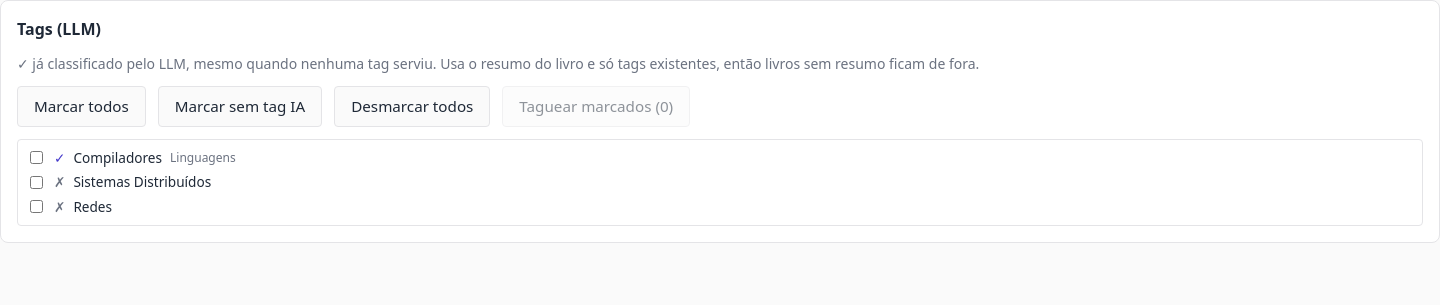
Scenario: AdminAutoTags › sends only marked books that have a summary
Expected: the checkbox labelled "✗ Sistemas Distribuídos" is shown, [30,176,43,189]
Click the button "Marcar sem tag IA" at (240, 106), box [158,86,322,127]
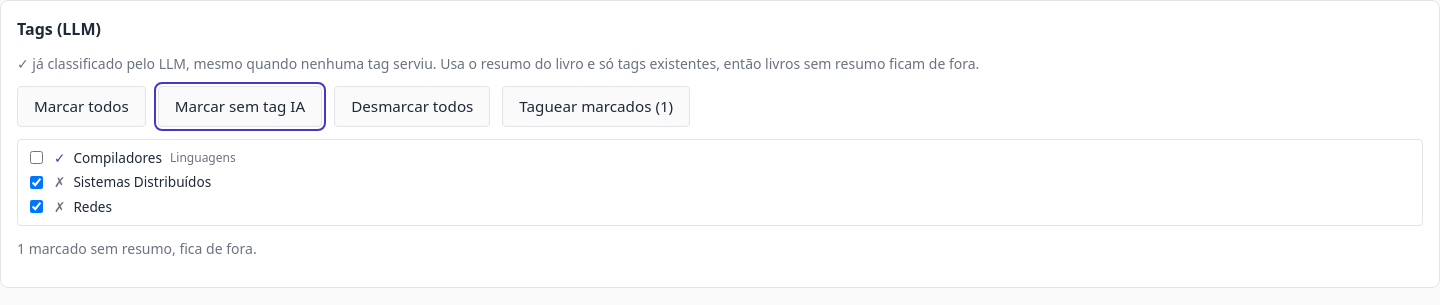
Result: the text "1 marcado sem resumo, fica de fora." is shown at [17,239,257,258]
Click the button "Taguear marcados (1)" at (596, 106), box [502,86,690,127]
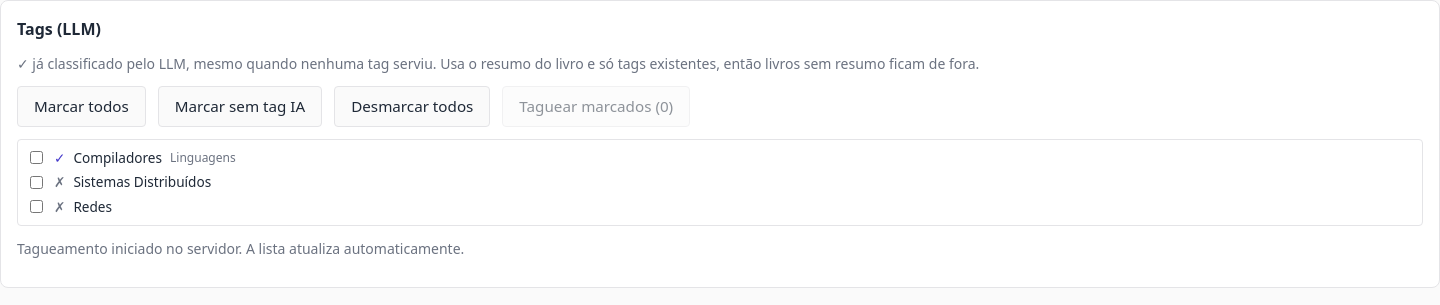
Result: the text "Tagueamento iniciado no servidor" is shown at [17,239,464,258]
